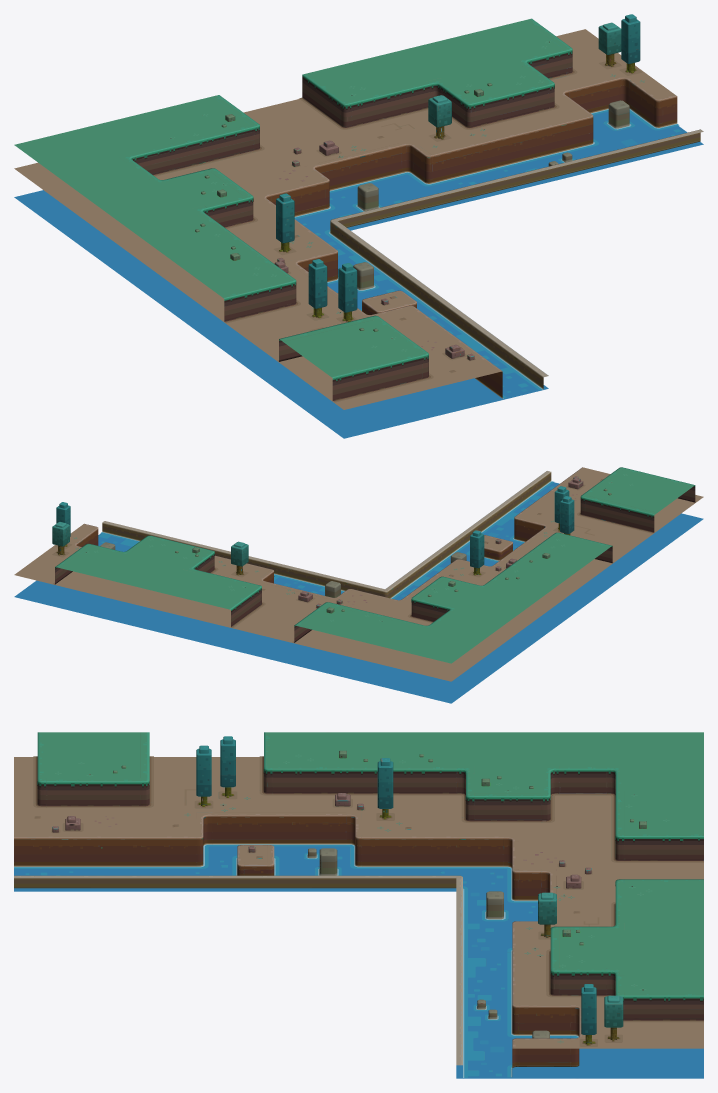
The model's file is C_water1_out_RD.fbx.
The picture shows the model from 3 angles, top to bottom: view 1: azimuth 30°, elevation 25°; view 2: azimuth 150°, elevation 25°; view 3: azimuth 270°, elevation 25°; orthographic projection. The views are drawn at different scales.
Visible parts, largest first — view 1: C_water1_out_RD; view 2: C_water1_out_RD; view 3: C_water1_out_RD.
Part boxes in pixels (x1=…): C_water1_out_RD: x1=14, y1=14, x2=703, y2=438; C_water1_out_RD: x1=14, y1=467, x2=703, y2=703; C_water1_out_RD: x1=14, y1=732, x2=703, y2=1078.
Size of the model in its own units: 117 by 16.47 by 117.
